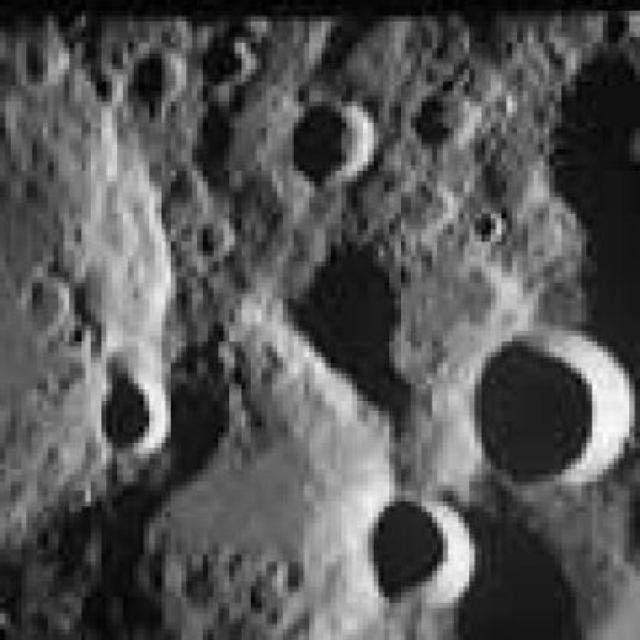crater: (469, 325, 633, 492), (362, 498, 472, 611), (290, 100, 372, 183), (103, 359, 159, 453)
